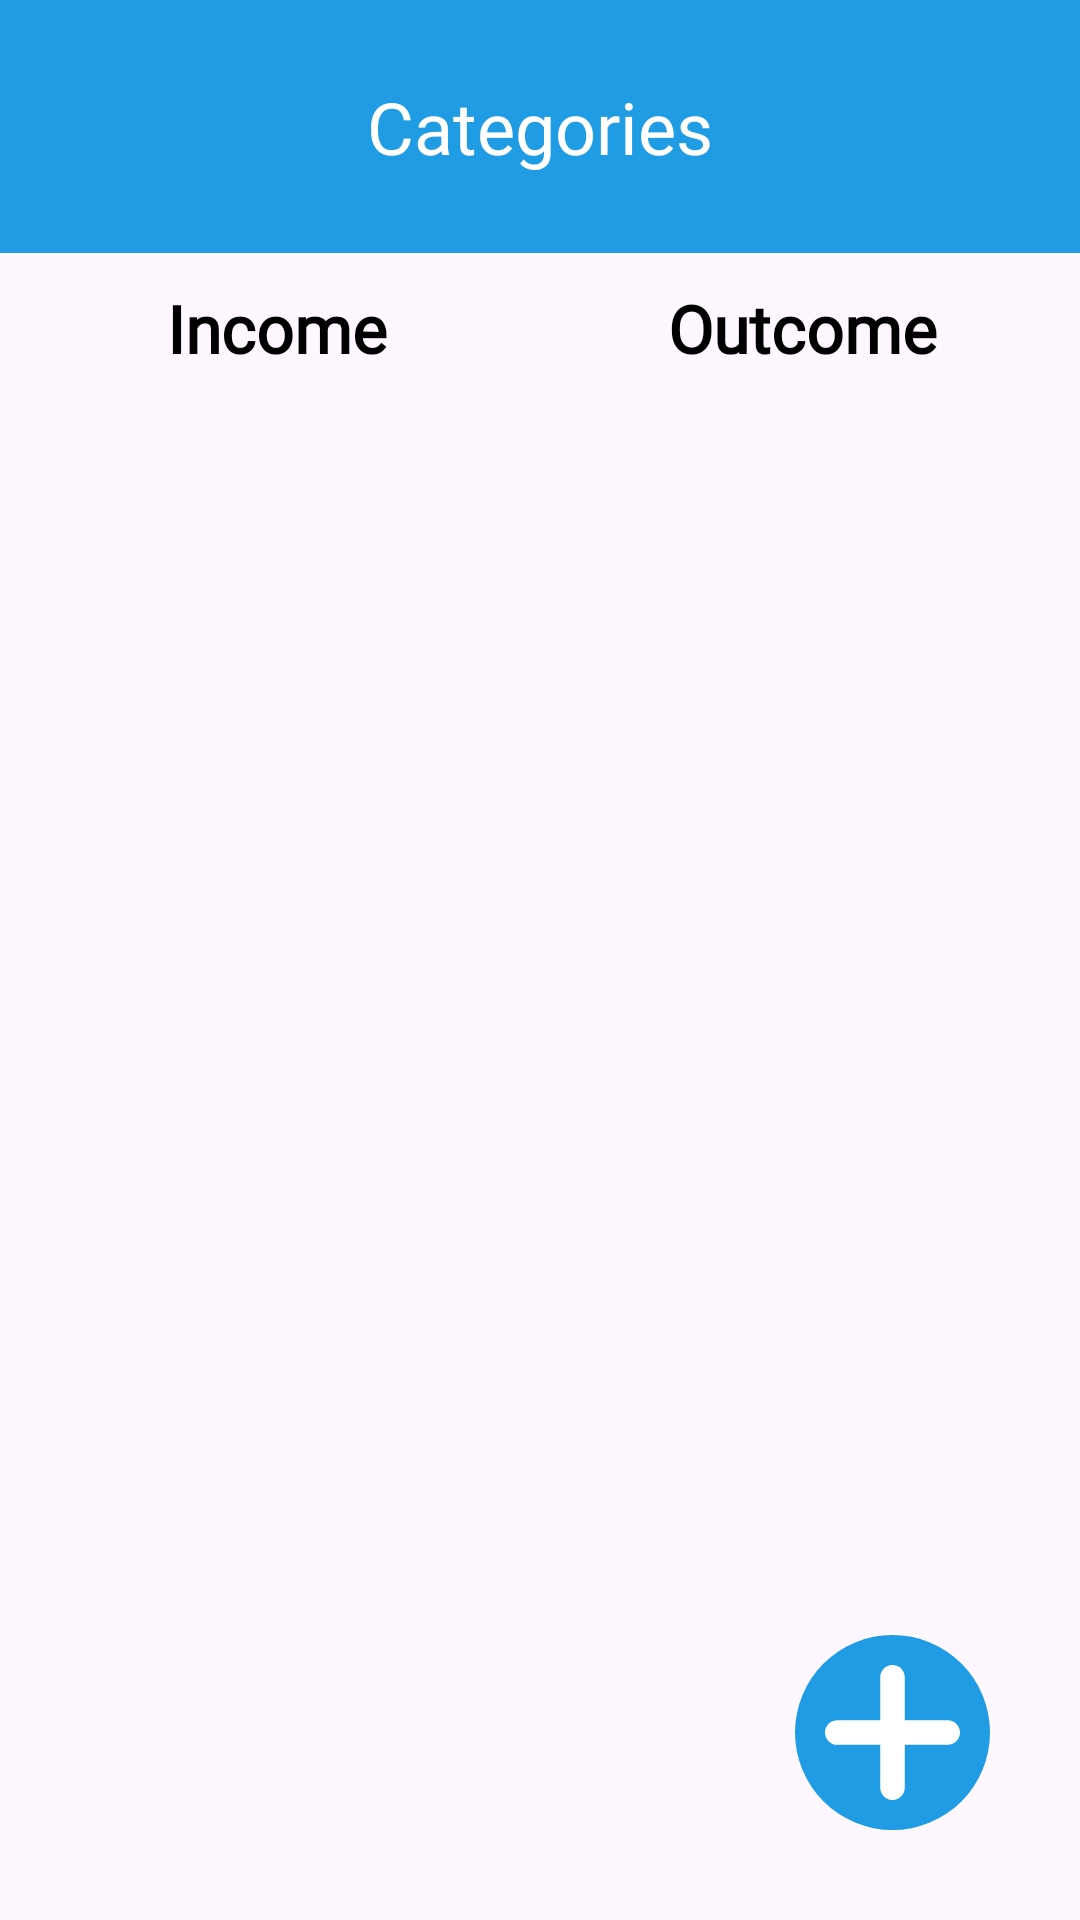

Screen size 1080w x 1920h. Icon name, then its center in pixels as (x=x, y=y):
plus: (x=892, y=1732)
